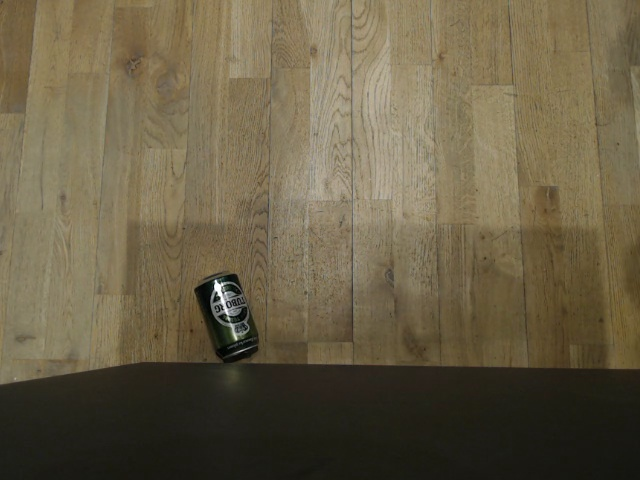beer: (191, 270, 261, 362)
